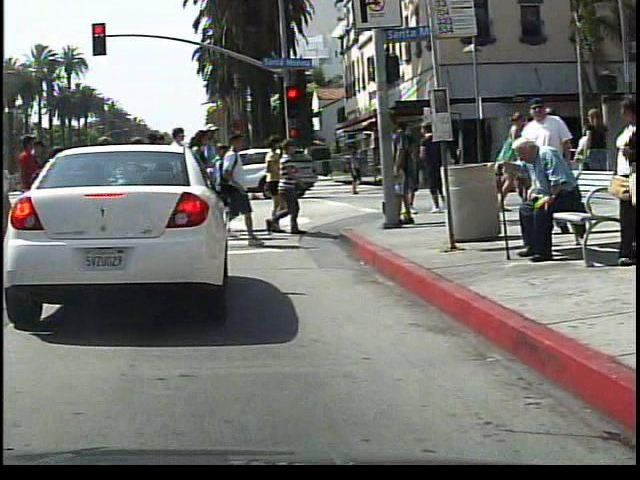person: (494, 132, 588, 263), (587, 84, 640, 271), (485, 106, 531, 216), (339, 143, 365, 196)
